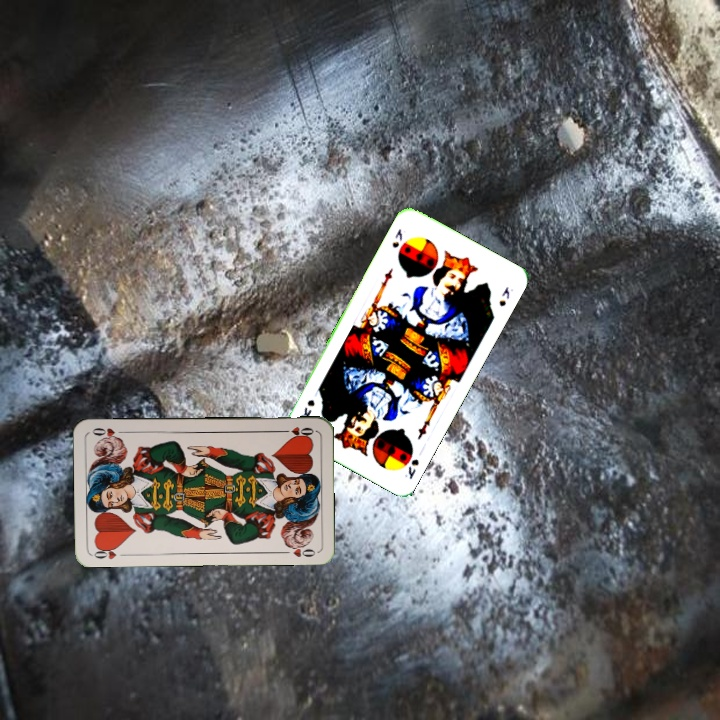HO: (90, 543, 130, 562), (276, 423, 316, 439)
SK: (401, 455, 422, 482), (388, 225, 405, 251)
